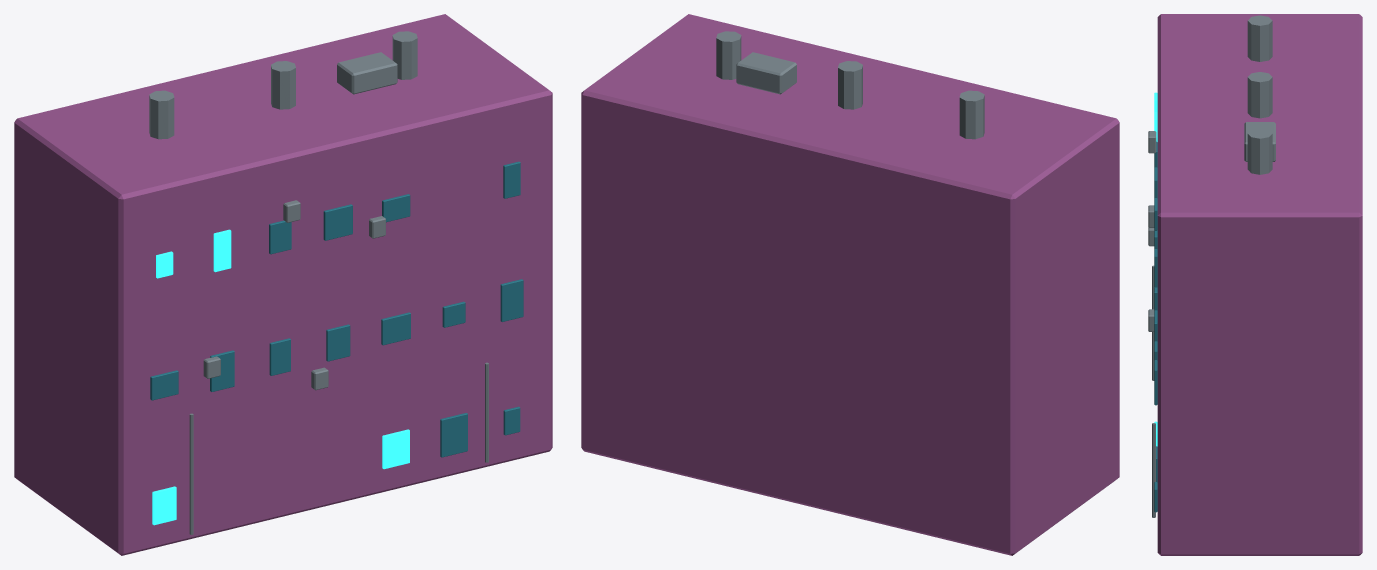
Rendered from building_027_seed11.glb.
The picture shows the model from 3 angles, left to right: view 1: azimuth 30°, elevation 25°; view 2: azimuth 150°, elevation 25°; view 3: azimuth 270°, elevation 25°; orthographic projection. The views are drawn at different scales.
Parts seen in each view (by area): view 1: building_027_seed11; view 2: building_027_seed11; view 3: building_027_seed11.
Part boxes in pixels (<box>): building_027_seed11: <box>14,14,552,555</box>; building_027_seed11: <box>581,14,1119,555</box>; building_027_seed11: <box>1148,14,1362,555</box>.
Size of the model in its own units: 10.75 by 9.44 by 4.84.
